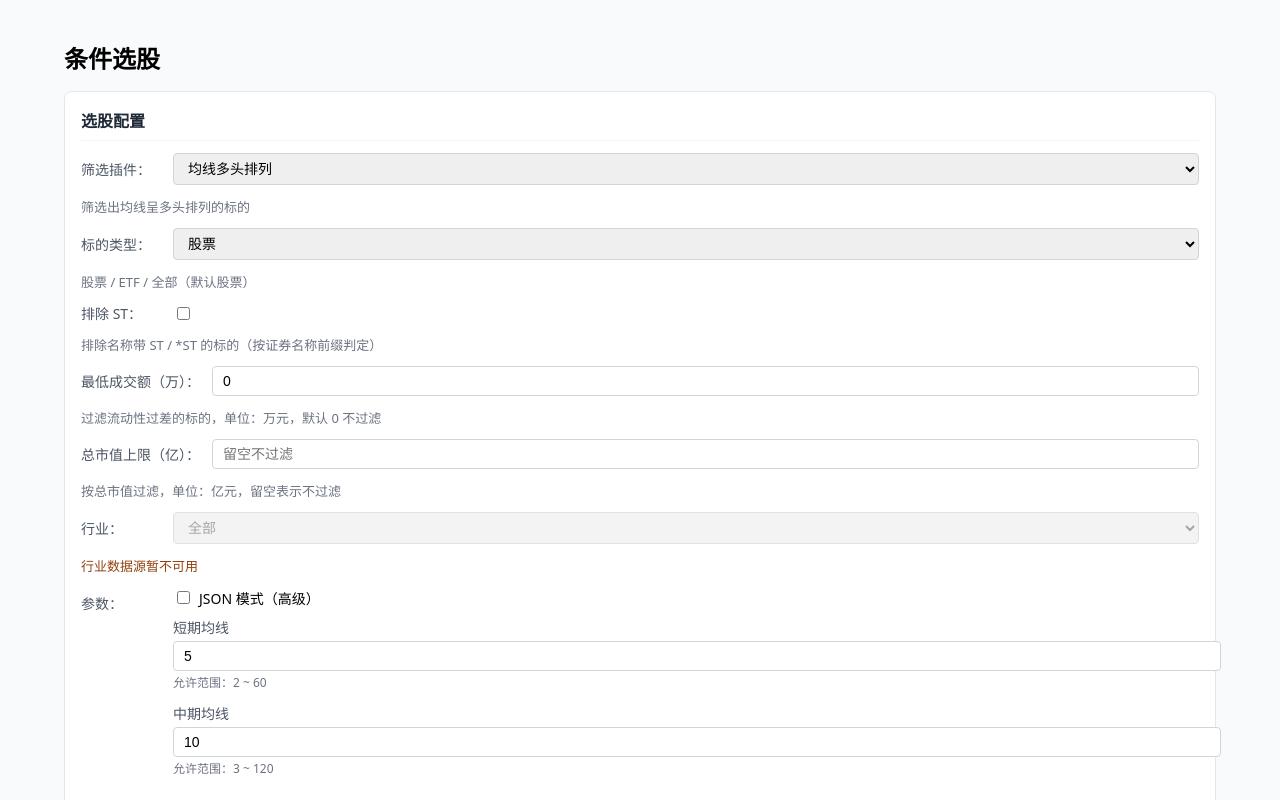
Test case: F-S2 · 参数表单由 schema 驱动（不是裸 JSON textarea） › 参数不合法时前端拦截（不���请求）
This screenshot has width=1280, height=800.
Replace the text in the number field labelled "短期均线" with "999" at (697,656), box [173, 641, 1221, 671]
(page scrolled)
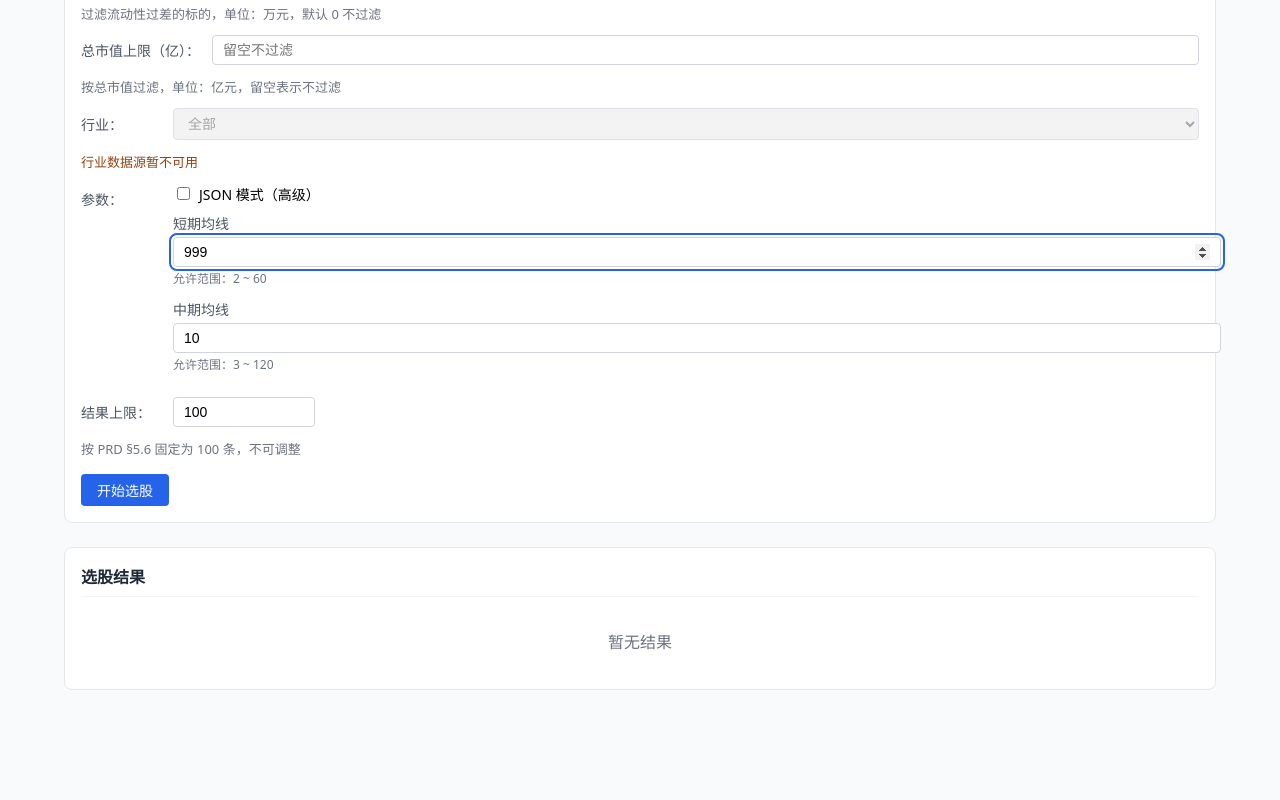
Click the button "开始选股".
click(125, 490)  # box [81, 474, 169, 506]
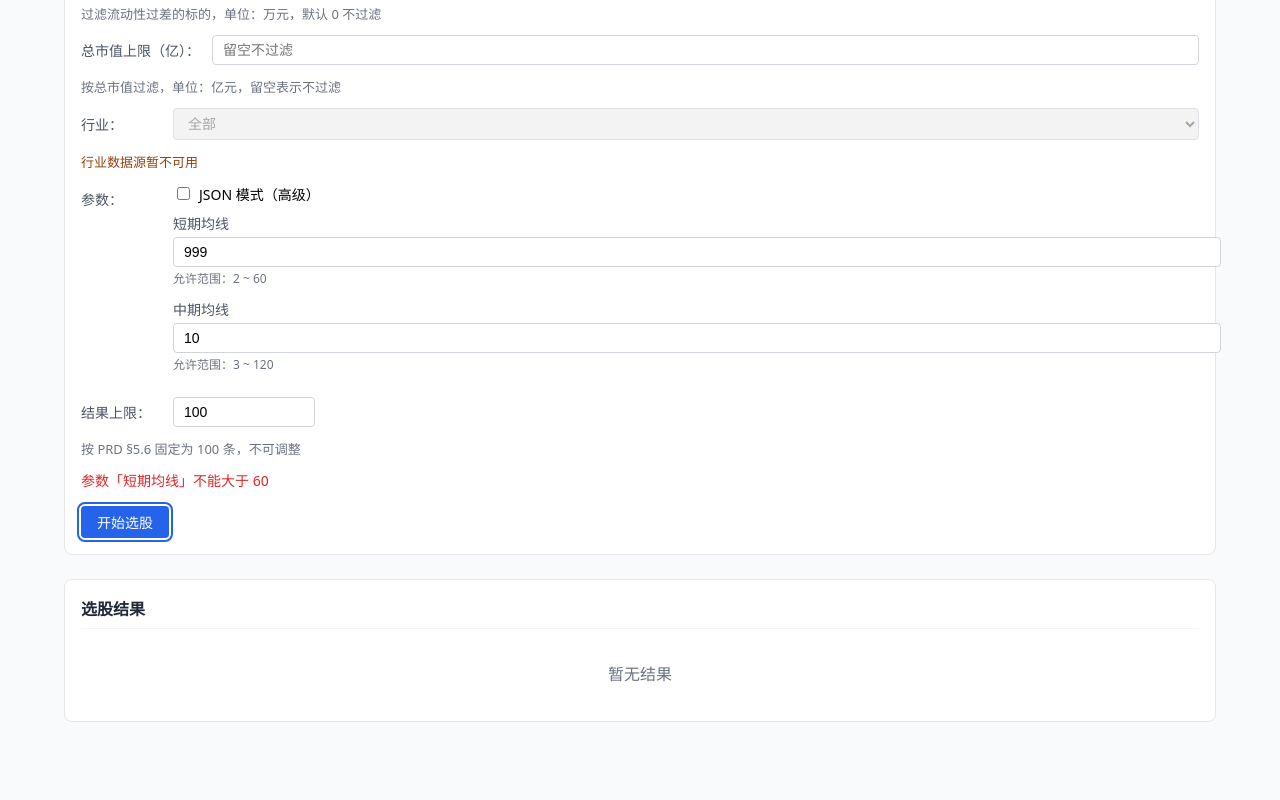
Expected: the text "参数「短期均线」不能大于 60" is shown, [81, 471, 269, 490]
